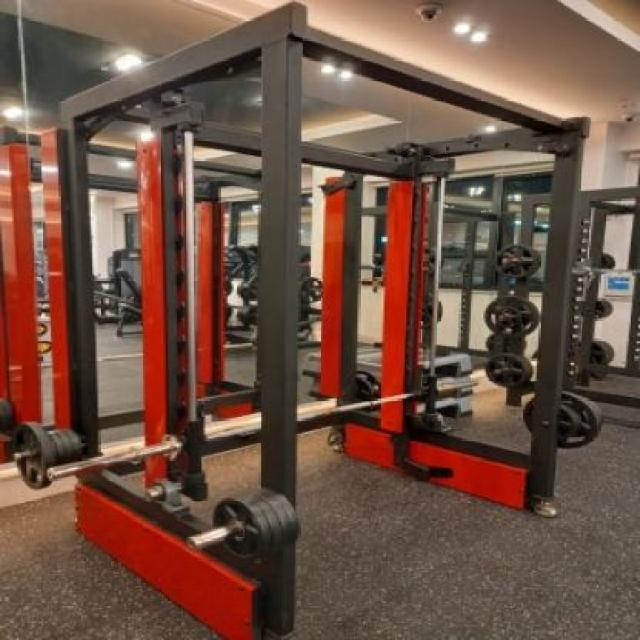smith machine: (57, 3, 594, 640)
